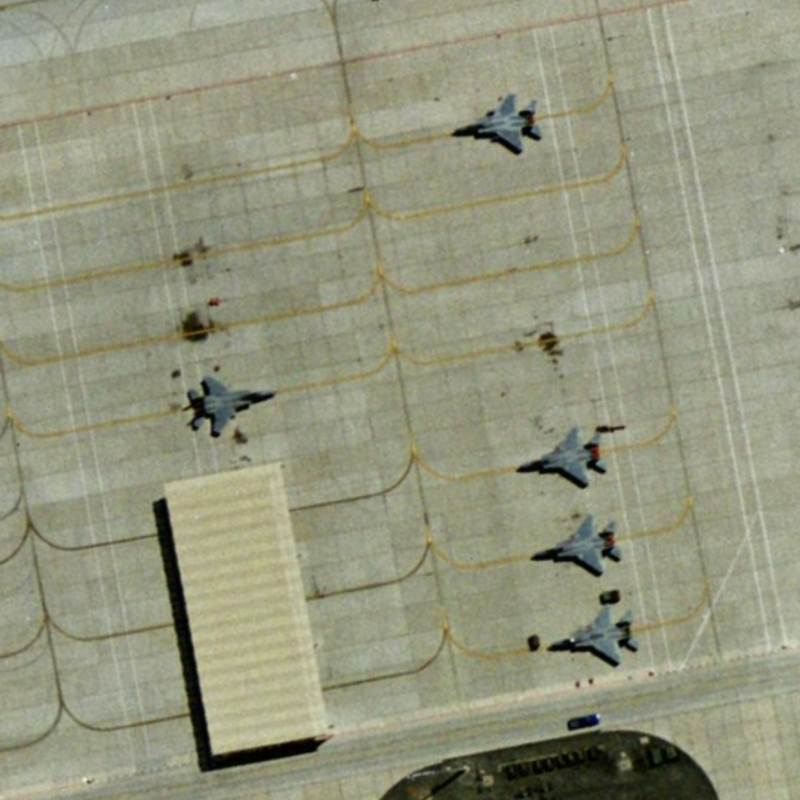A13: (540, 596, 647, 675), (180, 366, 281, 444), (523, 509, 626, 583), (448, 89, 553, 159), (514, 422, 613, 493)
